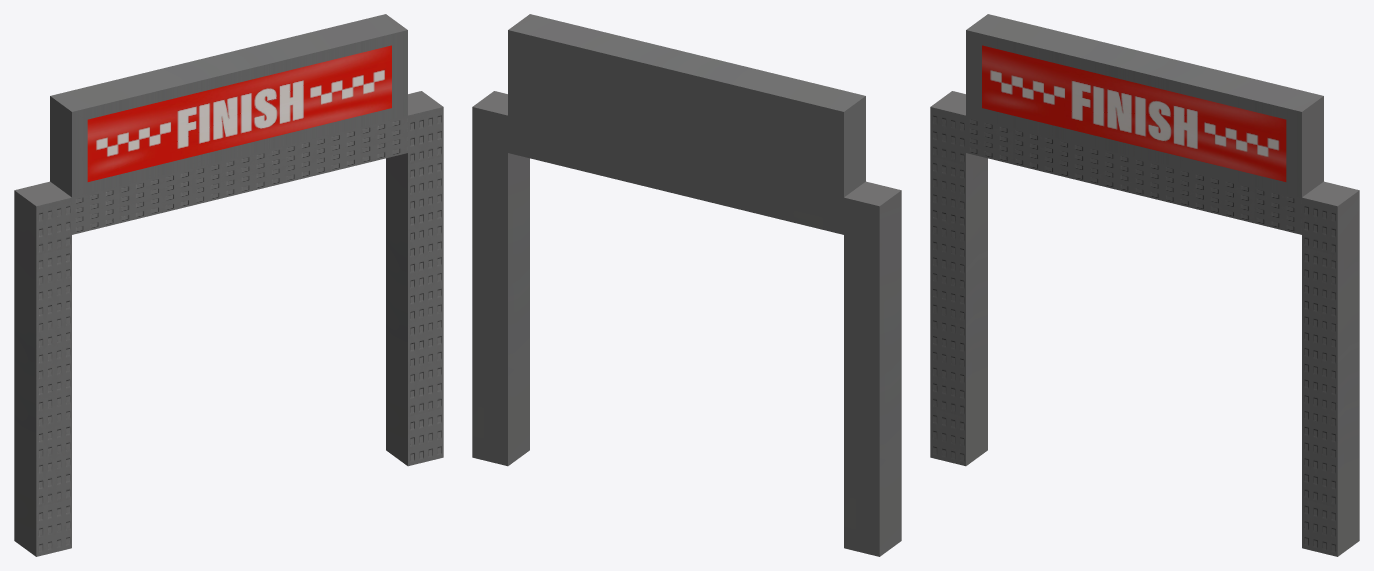
File: finish board.fbx
3 renders of one model, left to right at view 1: azimuth 30°, elevation 25°; view 2: azimuth 150°, elevation 25°; view 3: azimuth 330°, elevation 25°, orthographic.
Visible parts, largest first — view 1: Cube.007; view 2: Cube.007; view 3: Cube.007.
Part boxes in pixels (x1,y1,x2,y2): Cube.007: (14,14,443,556); Cube.007: (472,14,901,556); Cube.007: (930,14,1359,556).
Size of the model in its own units: 198 by 202 by 18.44.
2 materials, 2 textured.
